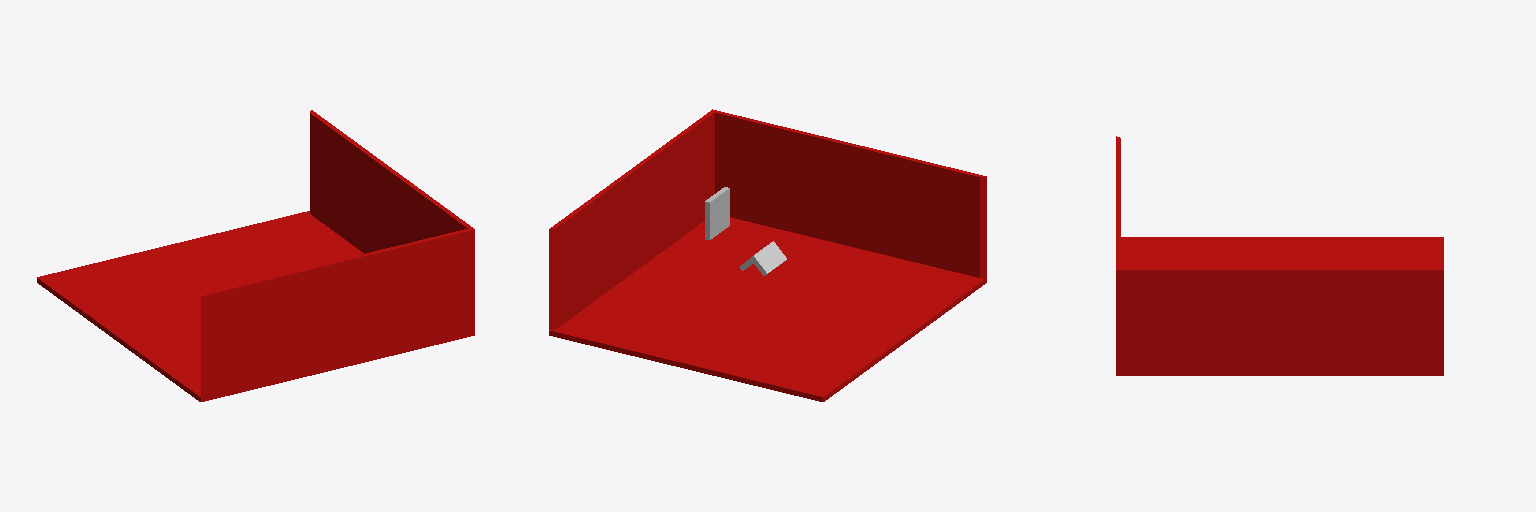
Rendered from cielo.obj.
The picture shows the model from 3 angles: view 1: azimuth 30°, elevation 25°; view 2: azimuth 150°, elevation 25°; view 3: azimuth 270°, elevation 25°; orthographic projection.
Visible parts, largest first — view 1: Cube; view 2: Cube, Cube.001, Cube.002; view 3: Cube.
Part boxes in pixels (left/top/right/bottom): Cube: left=37, top=110, right=474, bottom=401; Cube: left=549, top=109, right=986, bottom=401; Cube.001: left=705, top=187, right=729, bottom=240; Cube.002: left=740, top=241, right=786, bottom=275; Cube: left=1116, top=136, right=1443, bottom=375.
Bounding box in the file's own units: 110 × 40.75 × 114.